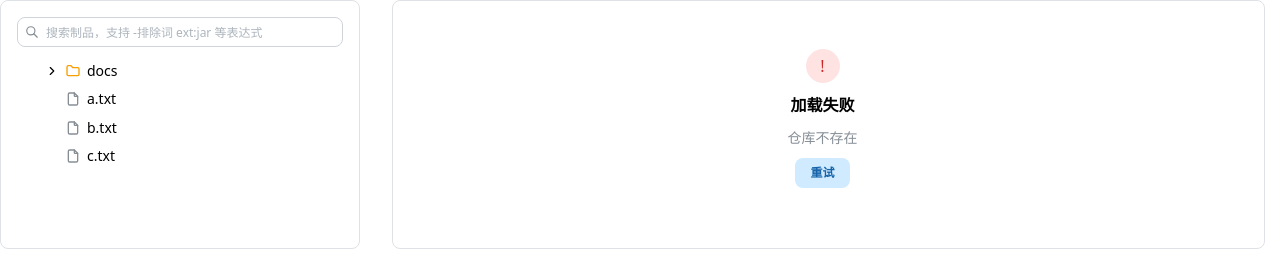
资产树操作 › 仓库内搜索失败时保留文件树并显示明确错误
In the field with placeholder "搜索制品，支持 -排除词 ext:jar 等表达式": x=180, y=32 [17,17,343,47], type "readme"
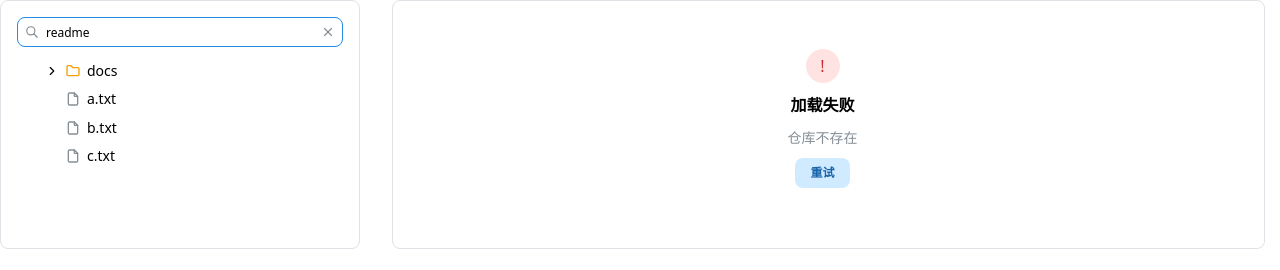
Press Enter
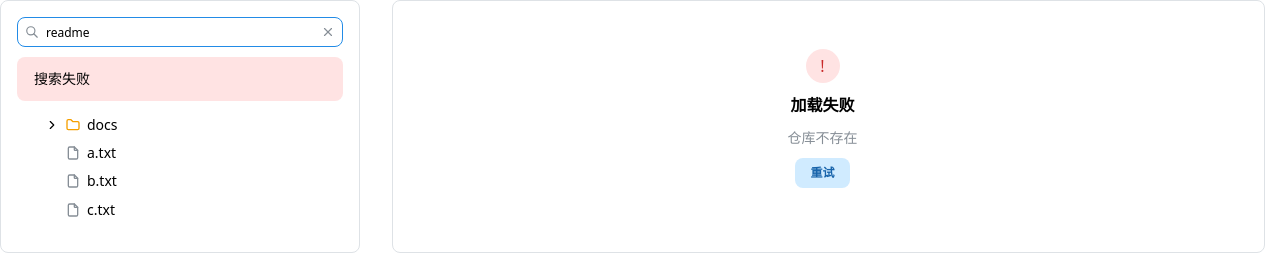
Expected: the text "a.txt" is shown, [87,143,116,162]
Now the text "搜索失败" is shown, box [34,69,90,88]
